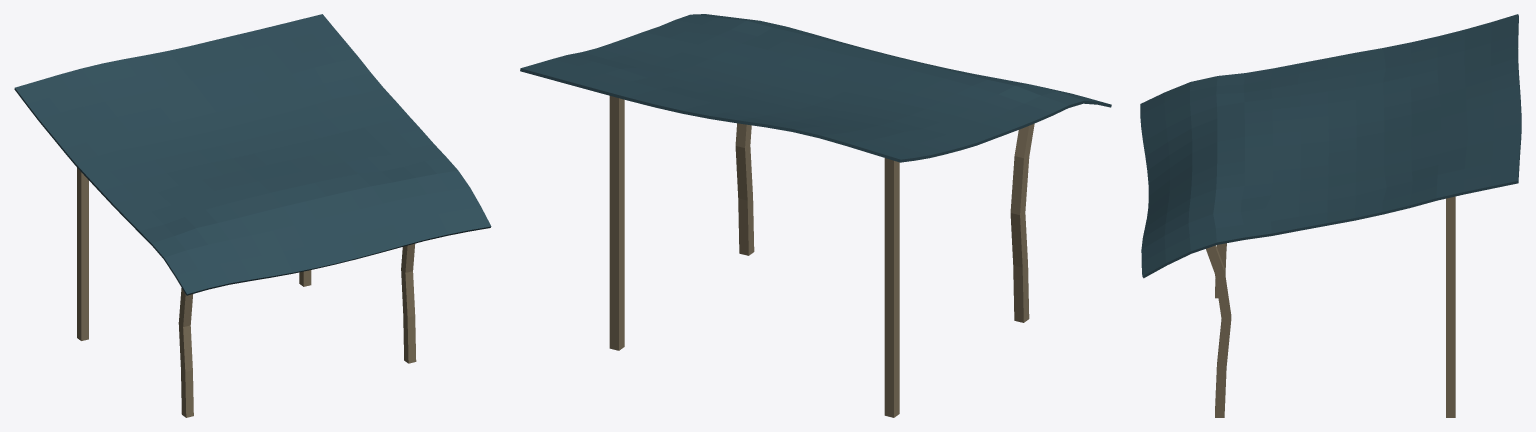
File: Tent_00.fbx
3 views of the same model, side by side, from view 1: azimuth 30°, elevation 25°; view 2: azimuth 150°, elevation 25°; view 3: azimuth 270°, elevation 25° (orthographic). The views are drawn at different scales.
Visible parts, largest first — view 1: Cube, Cube.001; view 2: Cube, Cube.001; view 3: Cube, Cube.001.
Boxes of the visible parts, x1,y1,x2,y2 form: Cube: (14, 14, 491, 295); Cube.001: (77, 168, 416, 417); Cube: (520, 14, 1111, 162); Cube.001: (609, 96, 1034, 417); Cube: (1140, 14, 1521, 278); Cube.001: (1206, 196, 1455, 417).
Size of the model in its own units: 837 by 626 by 814.
